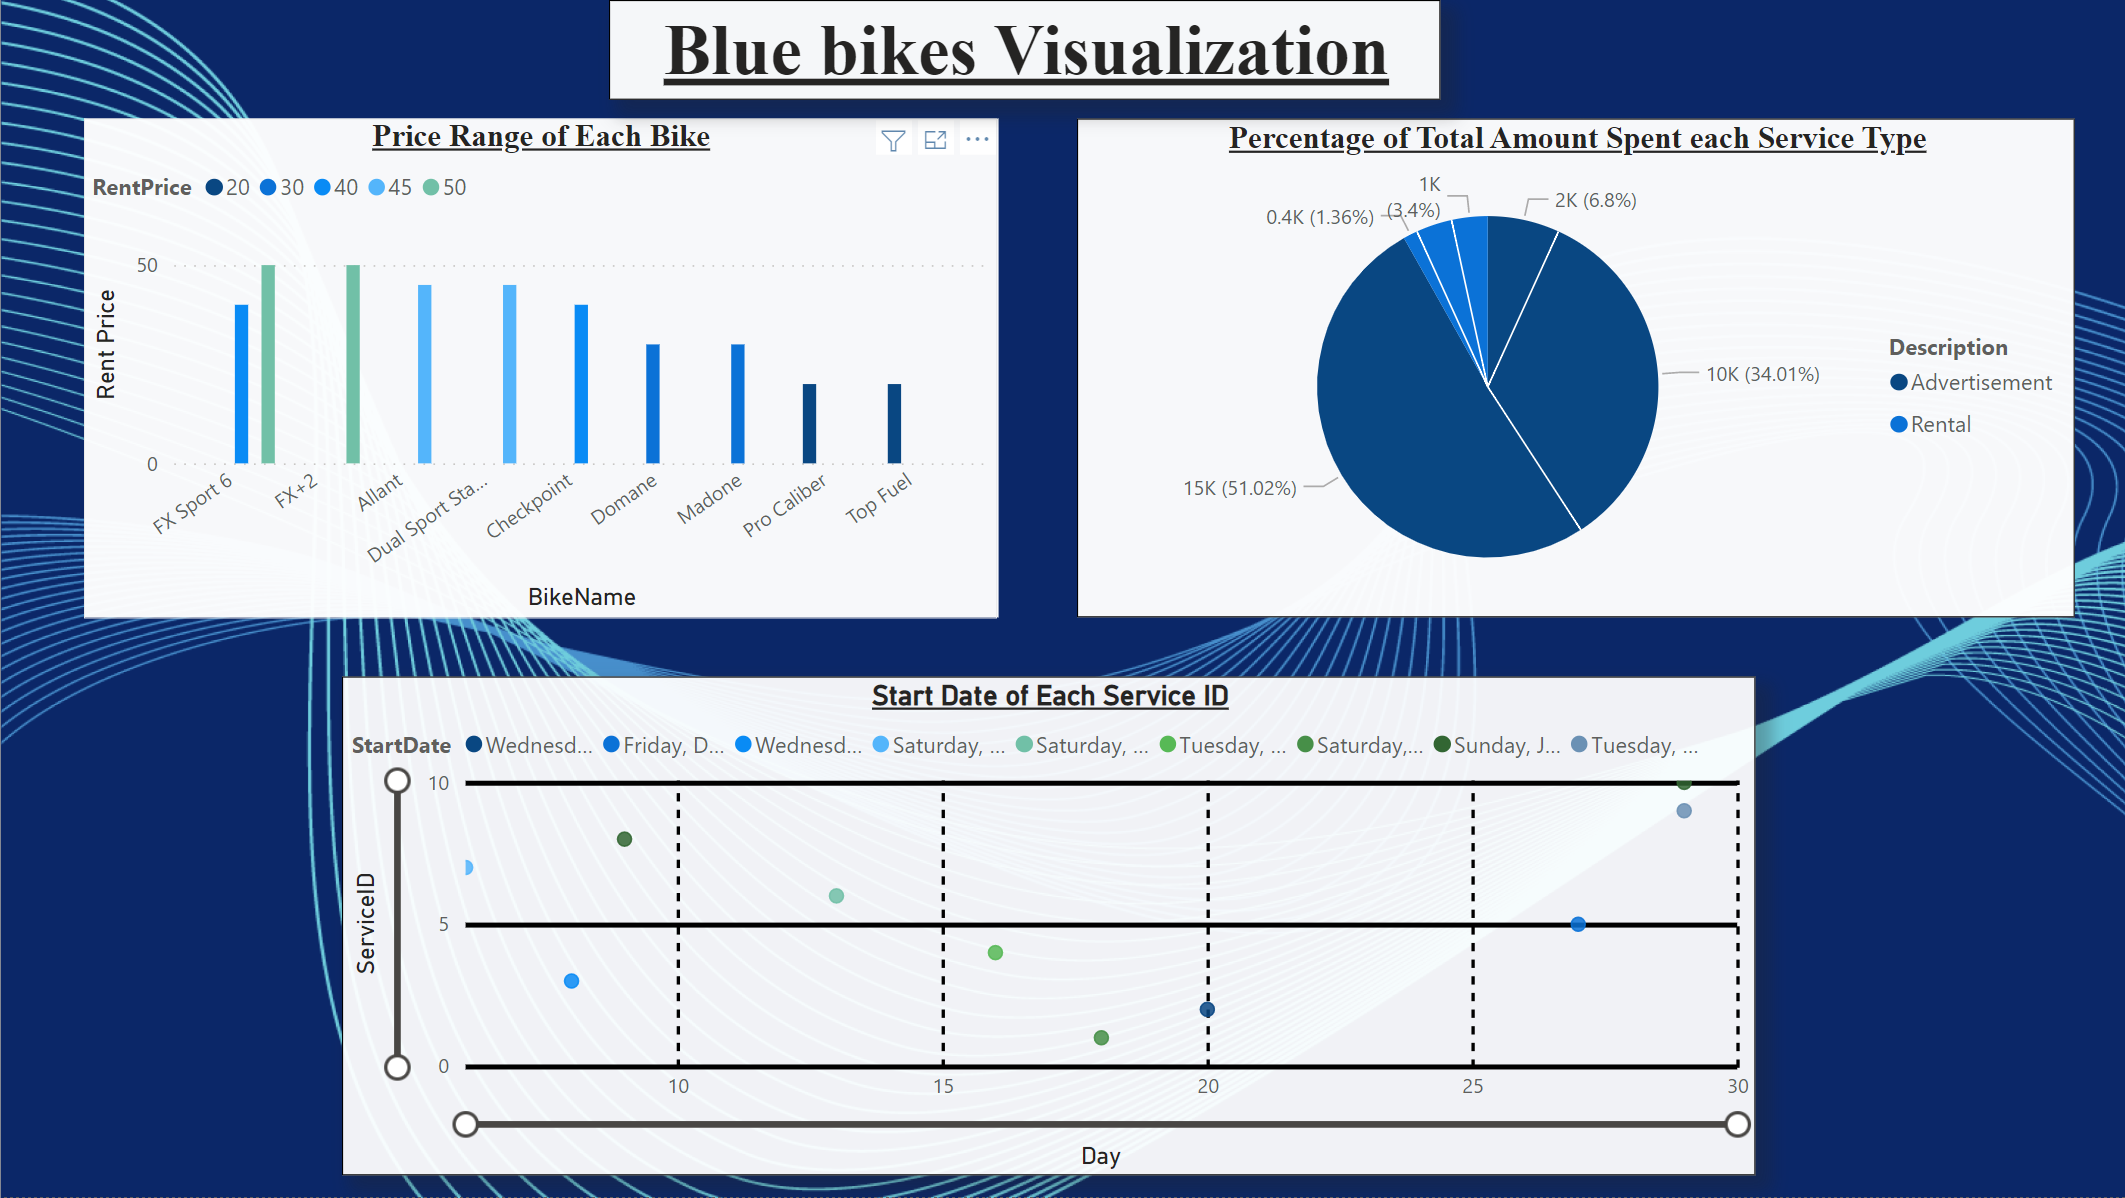

Layout of this report page (visuals, bound fields, positions):
{"tool":"powerbi","page":{"name":"Visualization","canvas":[1280,720],"ordinal":0},"visuals":[{"type":"clusteredColumnChart","title":"Price Range of Each Bike","fields":{"Category":["Bike.BikeName"],"Series":["Bike.RentPrice"],"Y":["Max(Bike.RentPrice)"]},"box":[50.4,71.5,549.9,300.1],"z":0},{"type":"pieChart","title":"Percentage of Total Amount Spent each Service Type","fields":{"Category":["Service.Description","Service.ServiceType"],"Y":["Sum(Service.Amount)"],"Series":["Service.Amount"]},"box":[647.6,71.5,600.2,300.1],"z":1000},{"type":"scatterChart","title":"Start Date of Each Service ID","fields":{"X":["Service.StartDate.Variation.Date Hierarchy.Day","Service.EndDate.Variation.Date Hierarchy.Day"],"Series":["Subscription.StartDate"],"Y":["Service.ServiceID"]},"box":[205.4,406.9,850,300.1],"z":2000},{"type":"textbox","box":[366.6,0,500,60],"z":2001}]}

Visuals, with their boxes in screenshot pixels (x1, y1, x2, y2), scaled from the page's 1280x720 canvas onto the 2125x1198 screenshot:
"Price Range of Each Bike" clusteredColumnChart: {"x1": 84, "y1": 119, "x2": 997, "y2": 618}
"Percentage of Total Amount Spent each Service Type" pieChart: {"x1": 1075, "y1": 119, "x2": 2072, "y2": 618}
"Start Date of Each Service ID" scatterChart: {"x1": 341, "y1": 677, "x2": 1752, "y2": 1176}
textbox: {"x1": 609, "y1": 0, "x2": 1439, "y2": 100}
